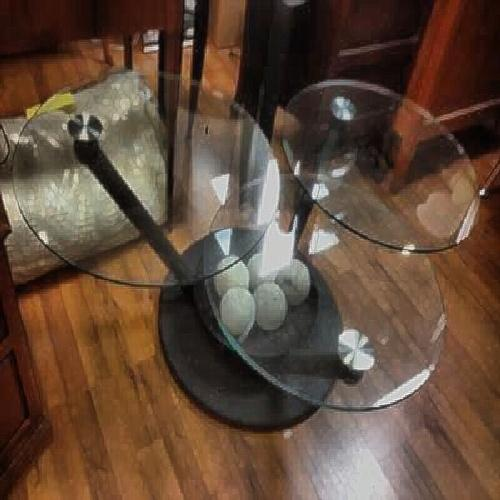table: (33, 88, 471, 412)
